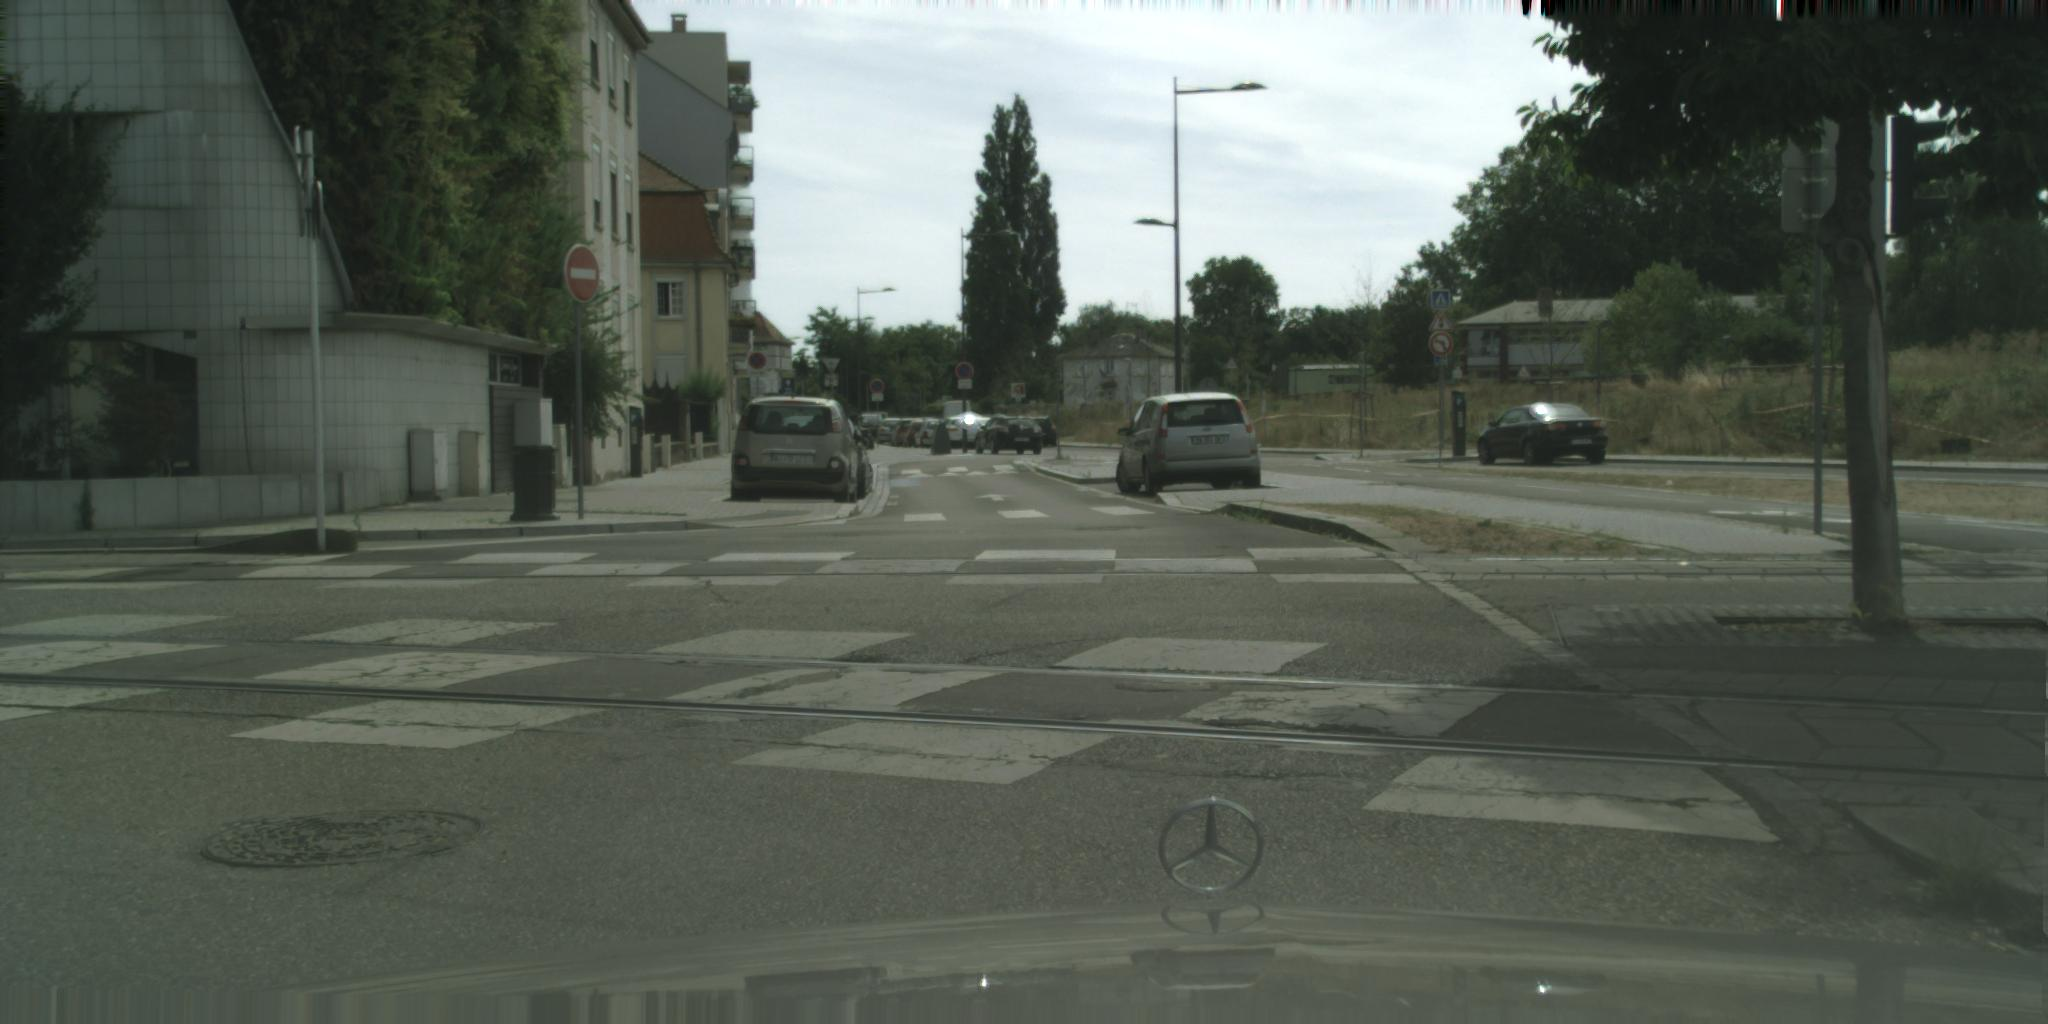car: (1117, 393, 1260, 499), (731, 394, 865, 503), (1479, 404, 1609, 466), (976, 415, 1044, 455), (943, 411, 987, 451), (914, 419, 950, 449), (1027, 417, 1058, 448), (904, 419, 935, 449), (889, 419, 920, 449), (878, 419, 906, 444)
